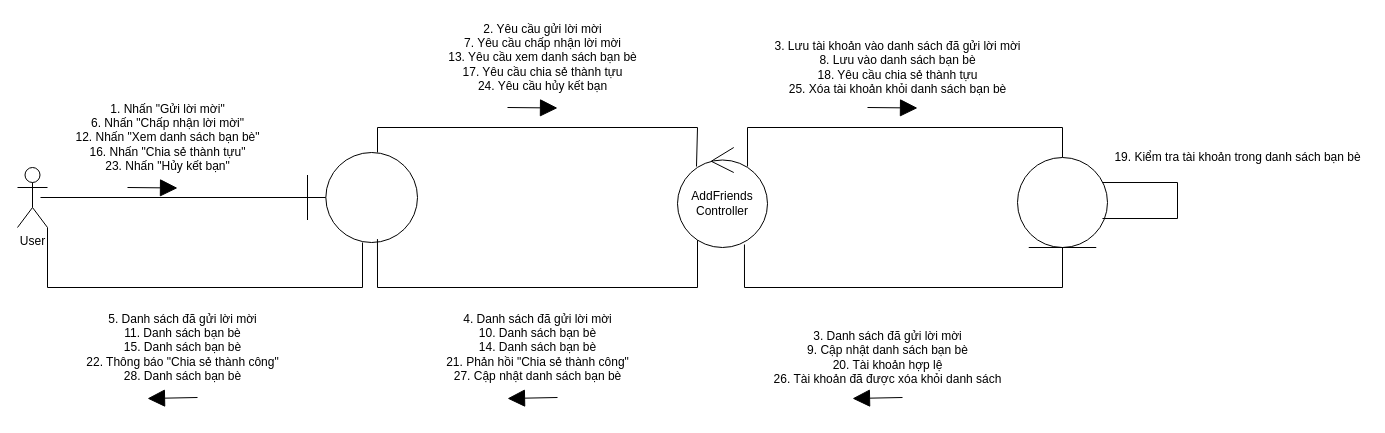
Image size: 1385x433. Some labels were removed from this diagram. The box of each missing label's shape, as (x1, y1, x2, y2) in pixels:
:FriendList: (1016, 156, 1108, 248)
:Trang AddFriends: (306, 152, 418, 242)
